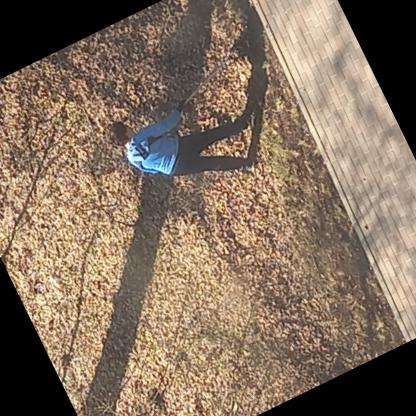Human Body: (105, 67, 271, 221)
